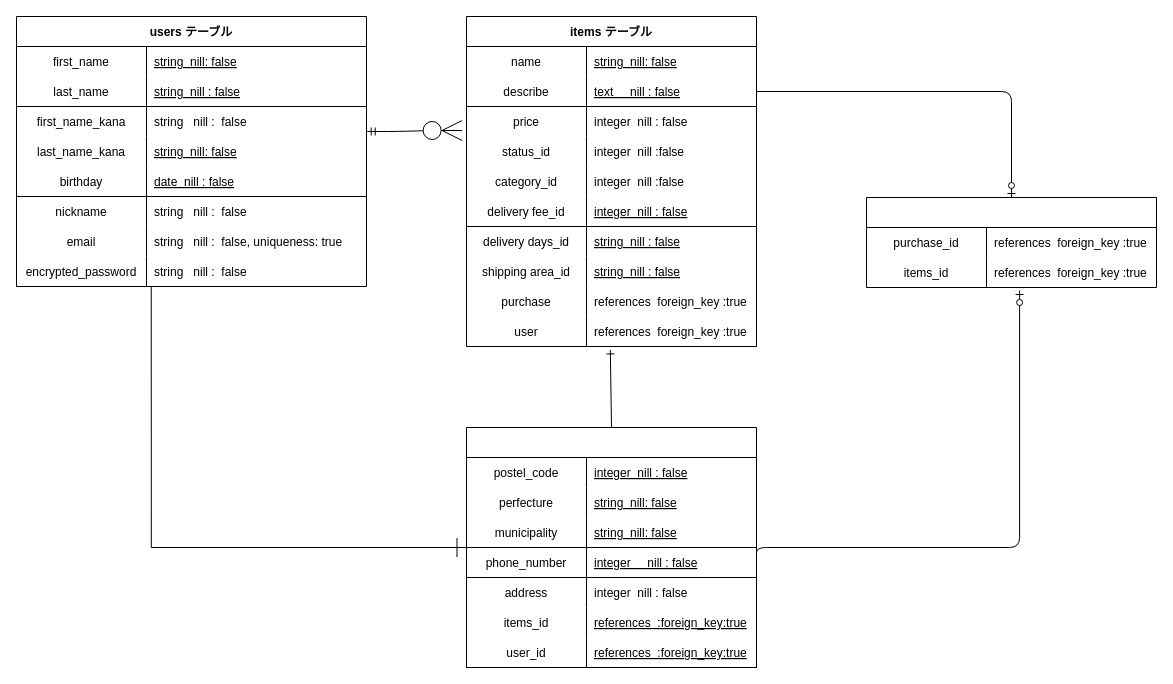
This 1173x684 diagram has some shape labels left out. Each missing label, with the box of its shape:
delivery テーブル: (866, 196, 1156, 288)
Purchase 購入テーブル: (466, 426, 756, 668)
